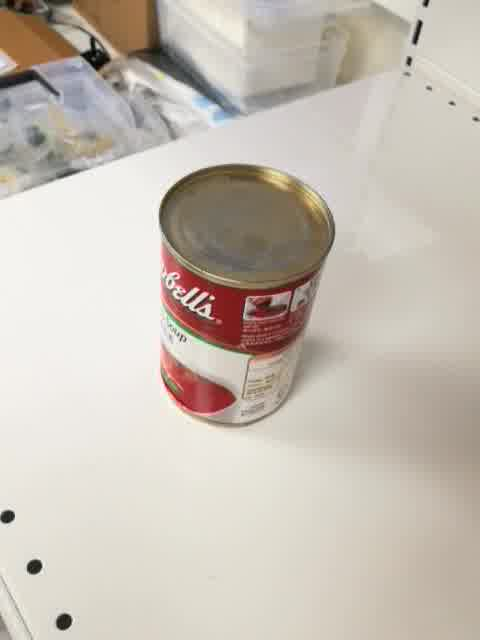tomatosoup: (156, 162, 336, 428)
